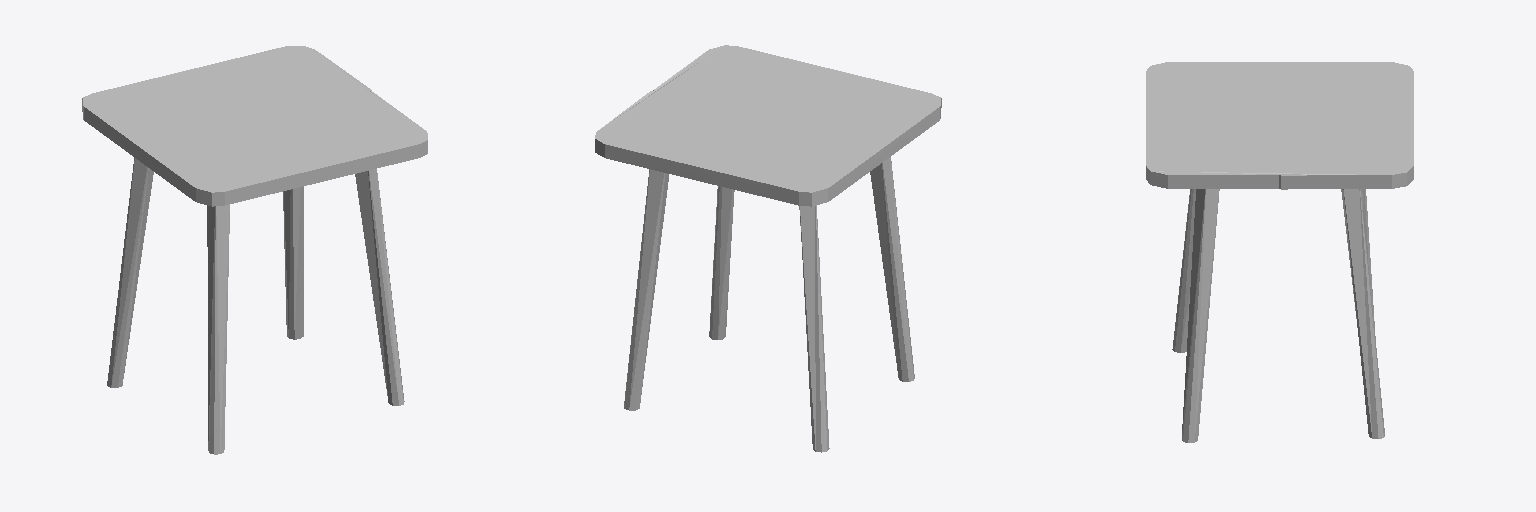
Rendered from Chair08.obj.
The picture shows the model from 3 angles: view 1: azimuth 30°, elevation 25°; view 2: azimuth 150°, elevation 25°; view 3: azimuth 270°, elevation 25°; orthographic projection.
Visible parts, largest first — view 1: Chair08_LOD0_defaultMaterial.010; view 2: Chair08_LOD0_defaultMaterial.010; view 3: Chair08_LOD0_defaultMaterial.010.
Part boxes in pixels (x1,y1,x2,y2): Chair08_LOD0_defaultMaterial.010: (82, 46, 427, 454); Chair08_LOD0_defaultMaterial.010: (595, 45, 941, 452); Chair08_LOD0_defaultMaterial.010: (1146, 62, 1413, 442).
Bounding box in the file's own units: 0.3628 × 0.4084 × 0.3611.